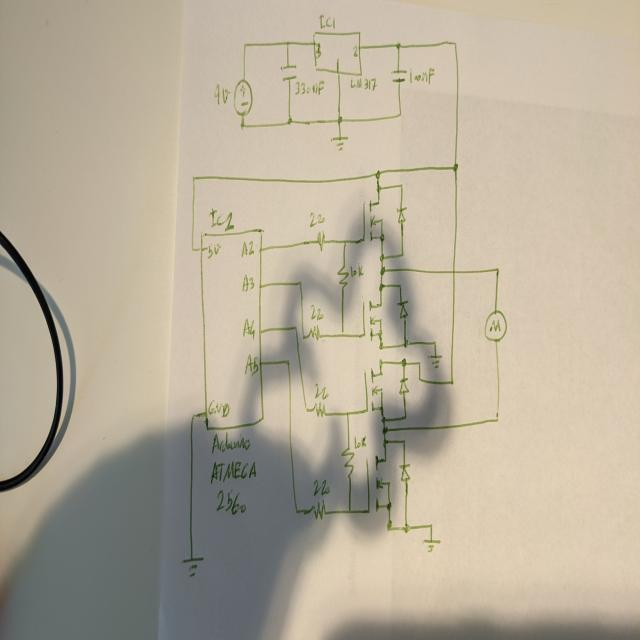capacitor: (280, 62, 297, 82), (391, 67, 406, 85)
crossover: (451, 267, 456, 276)
diode: (398, 460, 412, 485), (396, 299, 409, 321), (396, 204, 408, 227), (398, 375, 409, 396)
ground: (181, 554, 204, 578), (422, 536, 440, 556), (331, 134, 348, 152), (429, 354, 442, 368)
junction: (402, 521, 410, 534), (336, 113, 343, 125), (400, 355, 407, 367), (374, 168, 381, 180), (376, 183, 382, 196), (286, 115, 293, 126), (452, 161, 458, 173), (402, 337, 408, 349), (380, 264, 386, 276), (378, 341, 384, 353), (190, 174, 198, 183), (294, 505, 300, 516), (386, 520, 392, 531), (339, 327, 345, 338), (382, 425, 388, 436), (190, 411, 195, 424), (378, 282, 384, 292), (395, 40, 401, 50), (346, 506, 352, 516), (494, 265, 500, 275), (344, 408, 350, 418), (378, 356, 383, 368), (452, 38, 458, 48), (378, 252, 384, 262), (382, 437, 388, 446), (239, 120, 245, 129), (494, 413, 499, 423), (342, 237, 347, 247), (242, 40, 247, 50), (402, 412, 408, 420), (398, 181, 404, 189), (432, 338, 437, 347), (293, 323, 298, 332), (399, 250, 404, 259), (381, 415, 386, 424), (417, 374, 422, 382), (449, 378, 454, 386), (285, 39, 290, 47), (401, 438, 406, 446), (304, 405, 309, 413), (190, 244, 195, 252), (301, 333, 306, 341), (398, 109, 402, 118), (286, 358, 290, 366), (298, 280, 302, 288), (417, 359, 421, 367), (398, 282, 402, 290), (428, 522, 432, 529)
resistor: (340, 446, 356, 479), (310, 499, 328, 521), (336, 262, 348, 290), (314, 229, 328, 252), (308, 323, 322, 342), (312, 402, 326, 418)
source: (233, 76, 253, 116)
text: (210, 457, 258, 483), (215, 488, 247, 516), (211, 431, 251, 453), (294, 79, 325, 97), (209, 206, 234, 228), (207, 398, 230, 419), (409, 67, 434, 85), (213, 81, 230, 106), (242, 315, 256, 342), (350, 76, 377, 90), (312, 478, 330, 498), (244, 352, 258, 377), (242, 272, 256, 294), (318, 12, 336, 29), (240, 238, 254, 258), (308, 210, 324, 227), (206, 242, 221, 258), (314, 383, 328, 400), (310, 304, 324, 321), (349, 263, 363, 278), (353, 434, 366, 449), (314, 41, 322, 59), (352, 43, 359, 60), (335, 56, 340, 72)
transistor: (363, 455, 392, 513), (361, 200, 385, 242), (360, 300, 384, 341), (362, 368, 384, 412)
